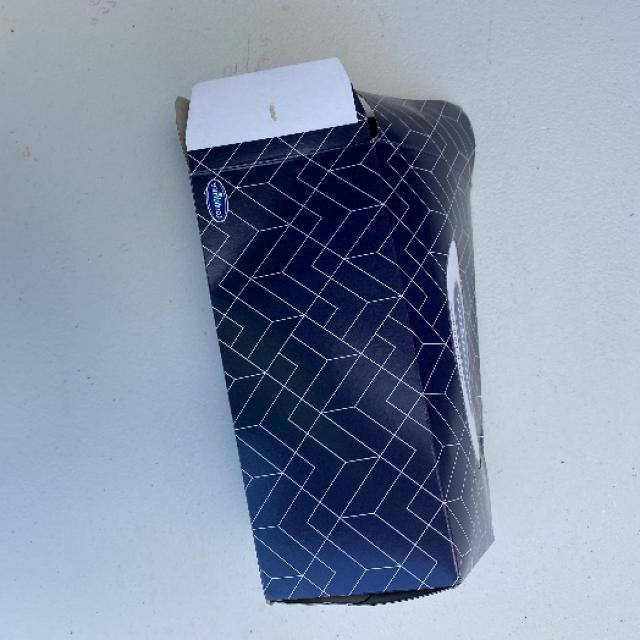kertas: (170, 52, 490, 613)
